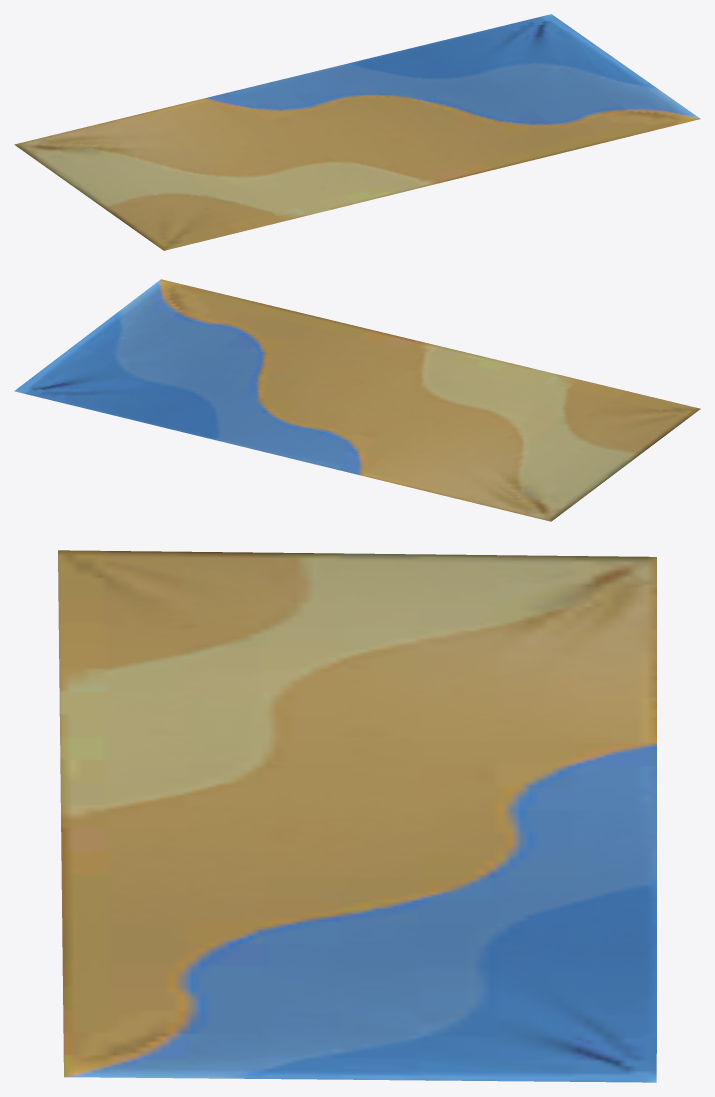
The model's file is pref_sm_beach_techcrowd_flag03_lv1.fbx.
The picture shows the model from 3 angles, top to bottom: view 1: azimuth 30°, elevation 25°; view 2: azimuth 150°, elevation 25°; view 3: azimuth 270°, elevation 25°; orthographic projection. The views are drawn at different scales.
Parts seen in each view (by area): view 1: pref_sm_beach_techcrowd_flag03_lv1; view 2: pref_sm_beach_techcrowd_flag03_lv1; view 3: pref_sm_beach_techcrowd_flag03_lv1.
Boxes of the visible parts, x1,y1,x2,y2 form: pref_sm_beach_techcrowd_flag03_lv1: [14, 14, 700, 250]; pref_sm_beach_techcrowd_flag03_lv1: [14, 279, 700, 521]; pref_sm_beach_techcrowd_flag03_lv1: [58, 550, 656, 1082].
Bounding box in the file's own units: 11.56 × 0.081 × 5.57.
